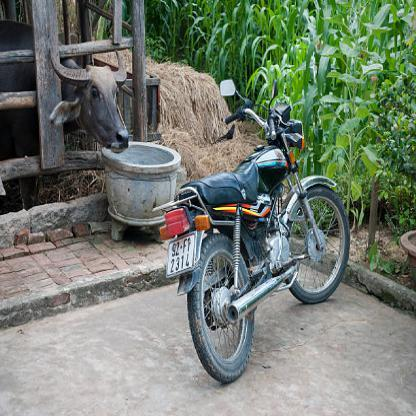Motorcycle: (147, 77, 365, 387)
